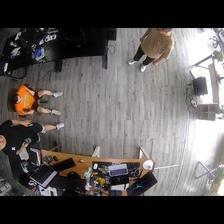normal: (128, 28, 174, 73), (10, 84, 63, 116)
